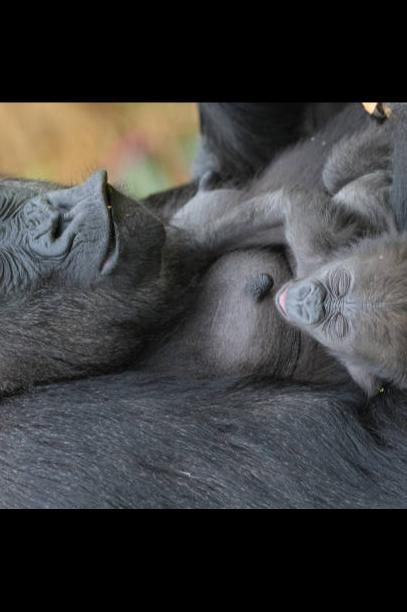gorille_Autres: (0, 103, 283, 504)
